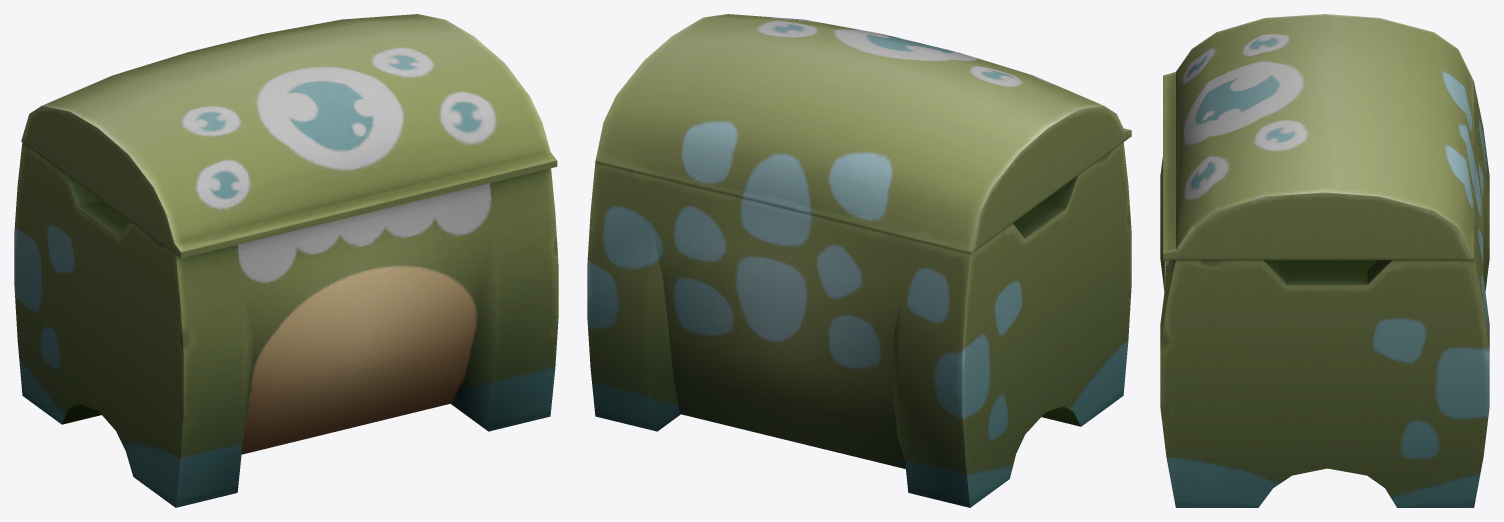
The model's file is baulJuguetes.fbx.
3 views of the same model, side by side, from view 1: azimuth 30°, elevation 25°; view 2: azimuth 150°, elevation 25°; view 3: azimuth 270°, elevation 25° (orthographic). The views are drawn at different scales.
Parts seen in each view (by area): view 1: s4studio_mesh_1; view 2: s4studio_mesh_1; view 3: s4studio_mesh_1.
Part boxes in pixels (x1=…): s4studio_mesh_1: x1=14, y1=14, x2=558, y2=507; s4studio_mesh_1: x1=587, y1=14, x2=1131, y2=507; s4studio_mesh_1: x1=1160, y1=14, x2=1489, y2=507.
Bounding box in the file's own units: 85 × 74.98 × 66.31.
Materials: 1 (1 with a texture image).
